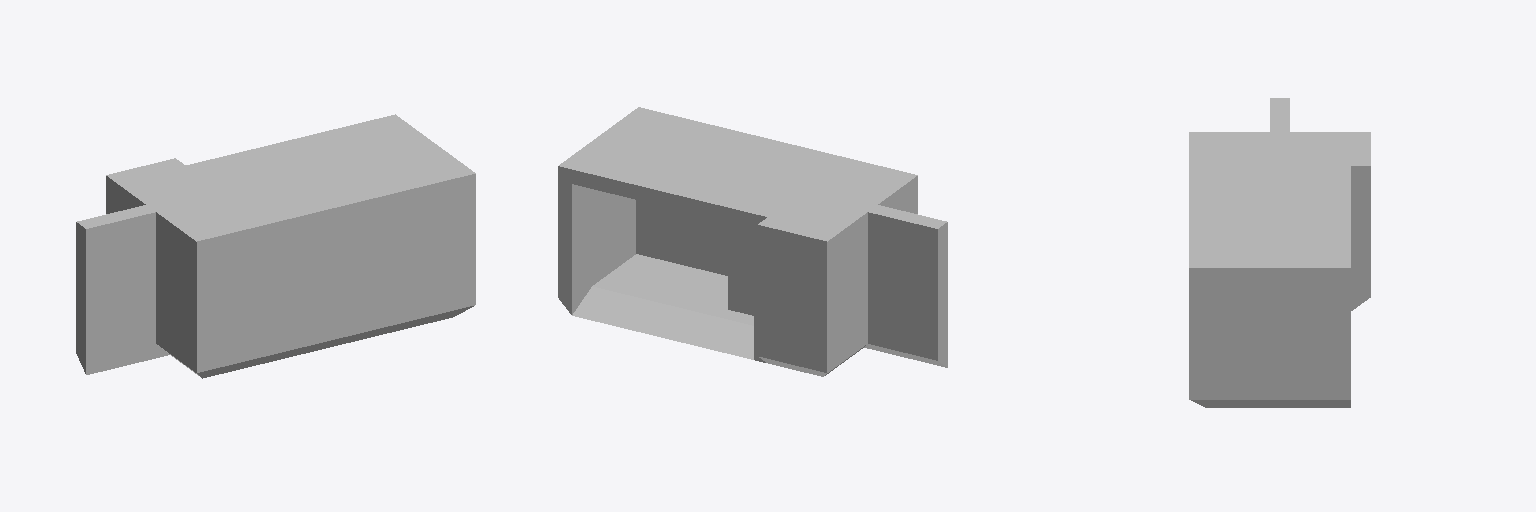
The model's file is microwave colliders.obj.
3 views of the same model, side by side, from view 1: azimuth 30°, elevation 25°; view 2: azimuth 150°, elevation 25°; view 3: azimuth 270°, elevation 25° (orthographic).
Visible parts, largest first — view 1: Plane.038_Plane.037, Plane.040, Plane.039, Plane.041, Plane.037_Plane.026, Plane.036_Plane.008, Plane.042; view 2: Plane.038_Plane.037, Plane.041, Plane.042, Plane.036_Plane.008, Plane.037_Plane.026, Plane.040, Plane.039; view 3: Plane.038_Plane.037, Plane.037_Plane.026, Plane.042, Plane.041.
Part boxes in pixels (left/top/right/bottom): Plane.038_Plane.037: left=116, top=114, right=475, bottom=255; Plane.040: left=280, top=192, right=461, bottom=352; Plane.039: left=116, top=198, right=279, bottom=378; Plane.041: left=76, top=173, right=287, bottom=374; Plane.037_Plane.026: left=456, top=188, right=475, bottom=315; Plane.036_Plane.008: left=272, top=309, right=460, bottom=361; Plane.042: left=106, top=158, right=185, bottom=213; Plane.038_Plane.037: left=558, top=107, right=917, bottom=247; Plane.041: left=728, top=172, right=947, bottom=367; Plane.042: left=758, top=217, right=837, bottom=376; Plane.036_Plane.008: left=572, top=254, right=753, bottom=359; Plane.037_Plane.026: left=558, top=181, right=635, bottom=314; Plane.040: left=636, top=200, right=727, bottom=275; Plane.039: left=754, top=190, right=917, bottom=373; Plane.038_Plane.037: left=1189, top=132, right=1350, bottom=282; Plane.037_Plane.026: left=1189, top=283, right=1350, bottom=407; Plane.042: left=1351, top=132, right=1370, bottom=310; Plane.041: left=1270, top=98, right=1289, bottom=199.
Size of the model in its own units: 10 by 4 by 4.5.